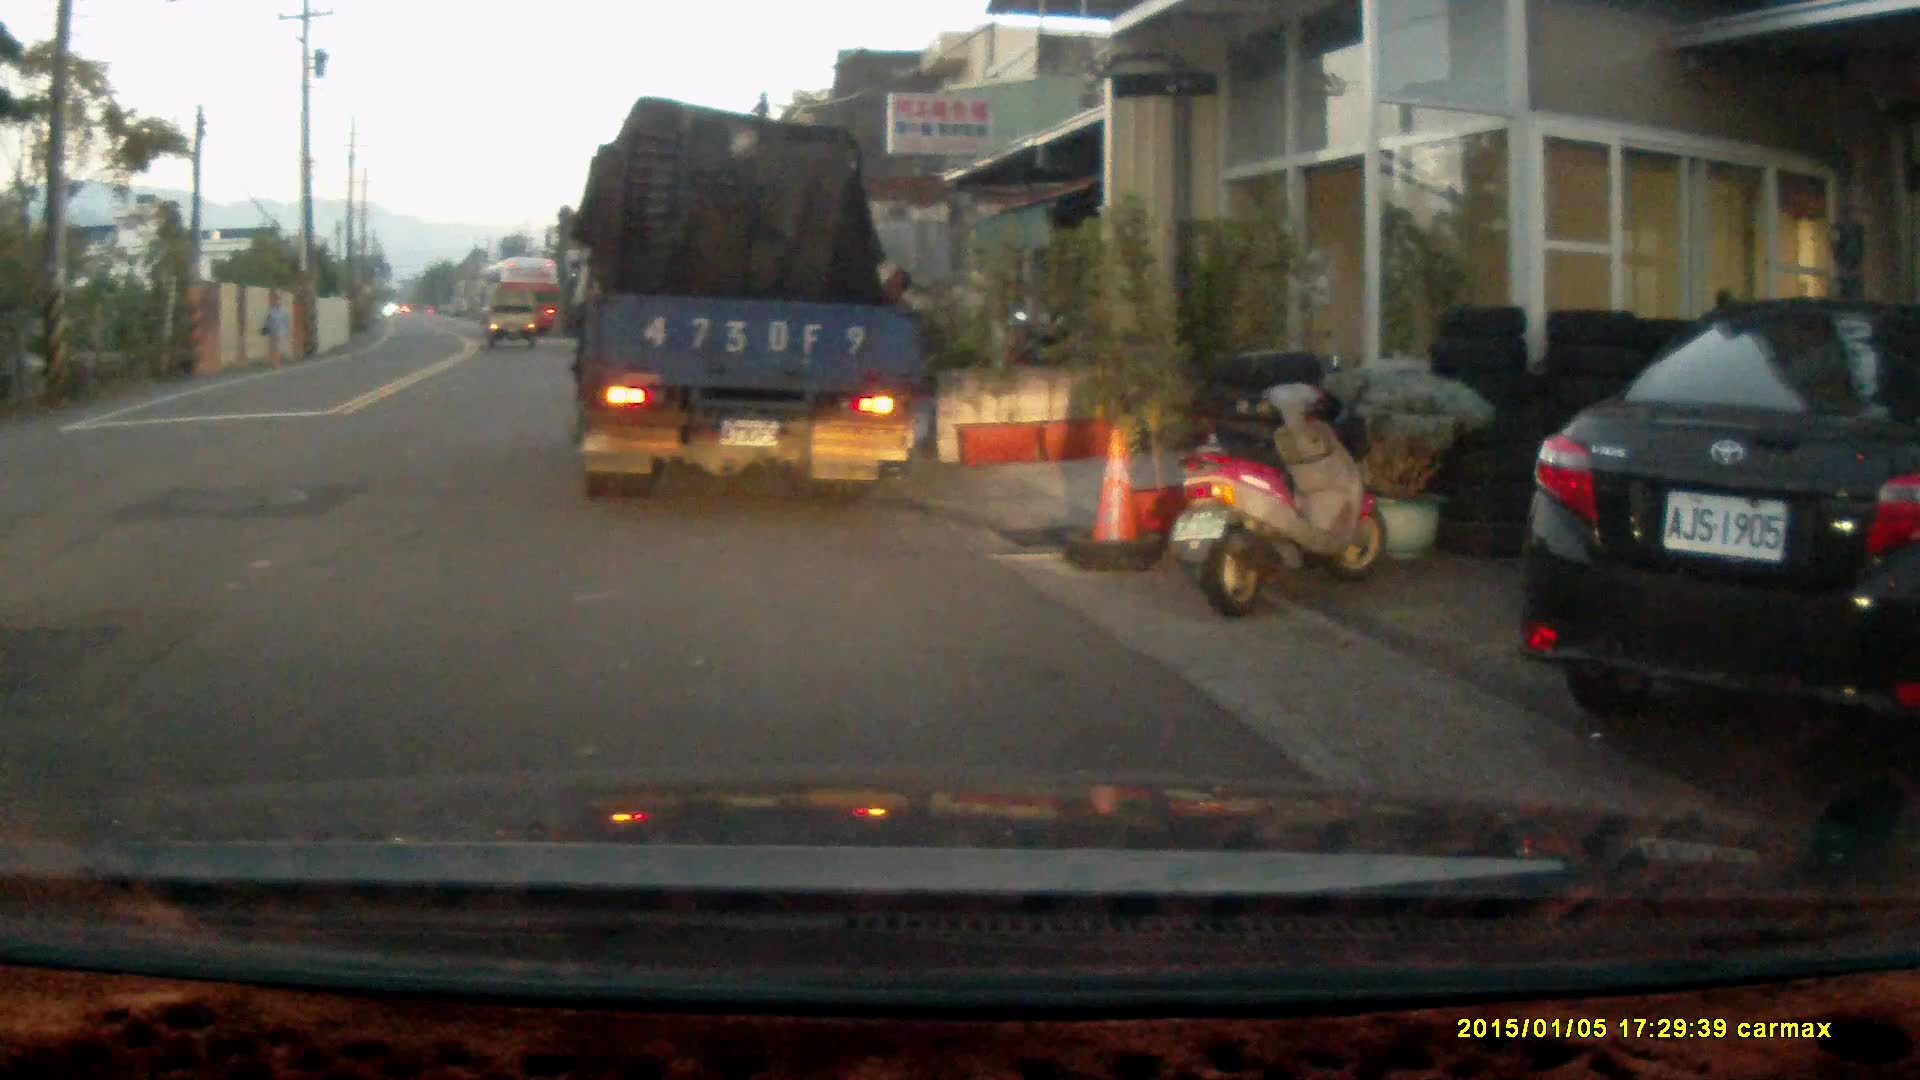pedestrian: (259, 289, 288, 362)
vehicle: (1535, 292, 1920, 763), (565, 109, 926, 504), (487, 254, 564, 338), (488, 295, 540, 353)
